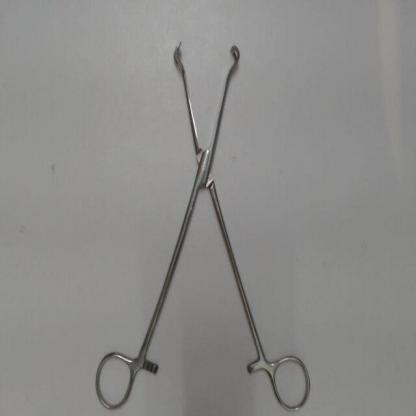8 Babcock Tissue Forceps: (90, 34, 316, 413)
